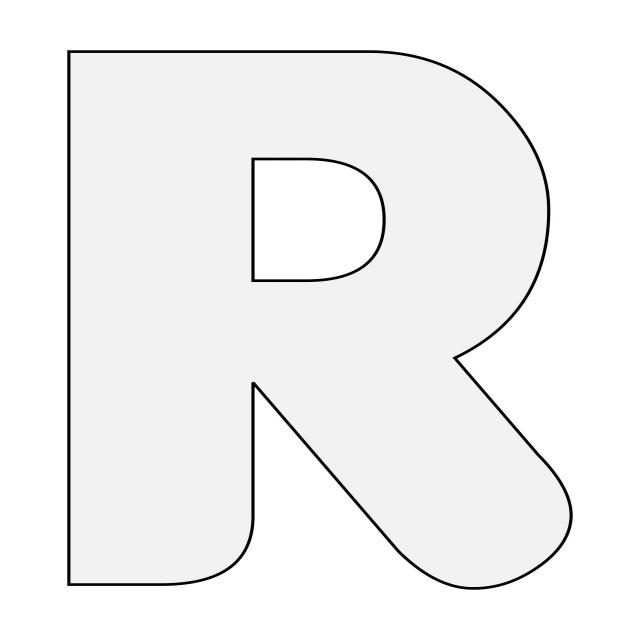R: (44, 22, 598, 614)
